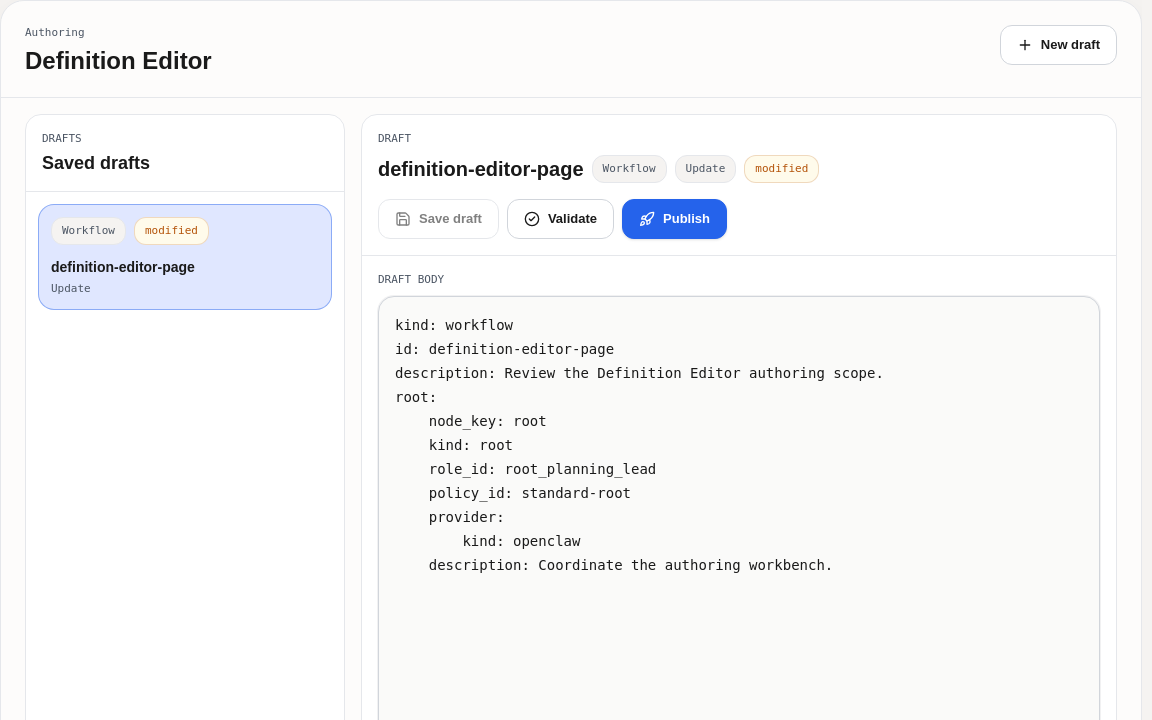
Test: DefinitionEditorPage › creates flat definition drafts and keeps name collisions in the dialog
Expected: the button "Workflow modified definition-editor-page Update" is shown, x1=38 y1=204 x2=332 y2=310
Click the button "New draft". click: (1058, 45)
box: x1=1000 y1=25 x2=1117 y2=65
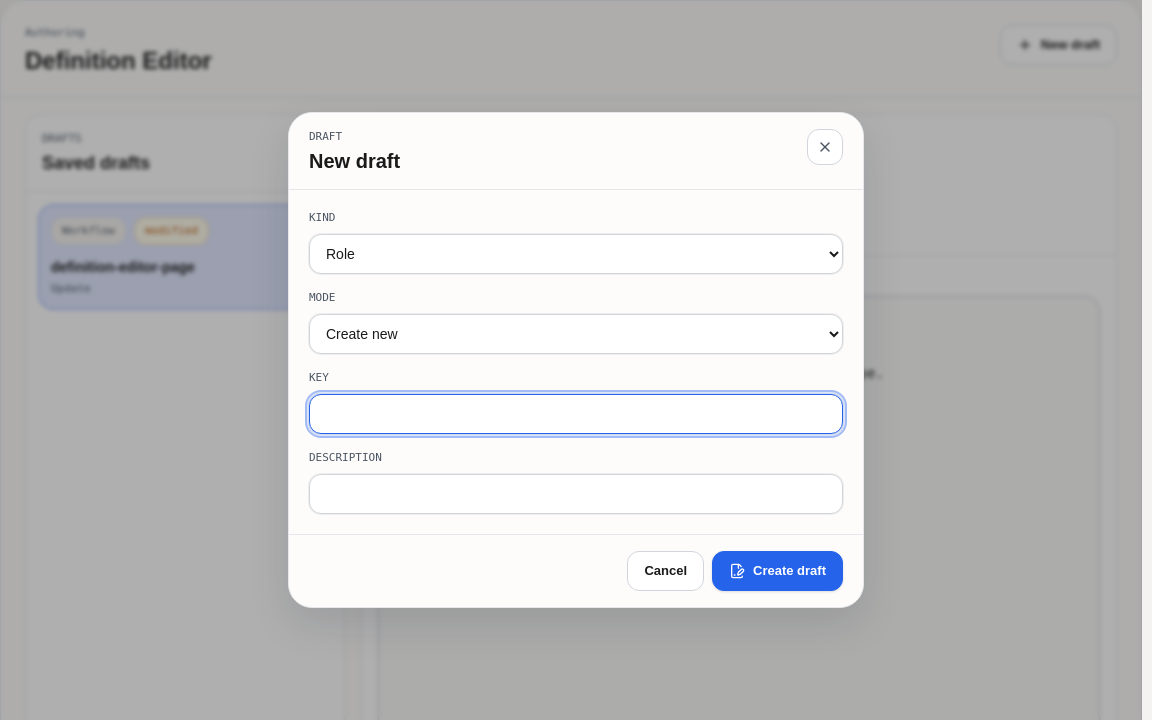
Type "definition-editor-review" into the field labelled "Key". click: (576, 414)
box: x1=309 y1=394 x2=843 y2=434
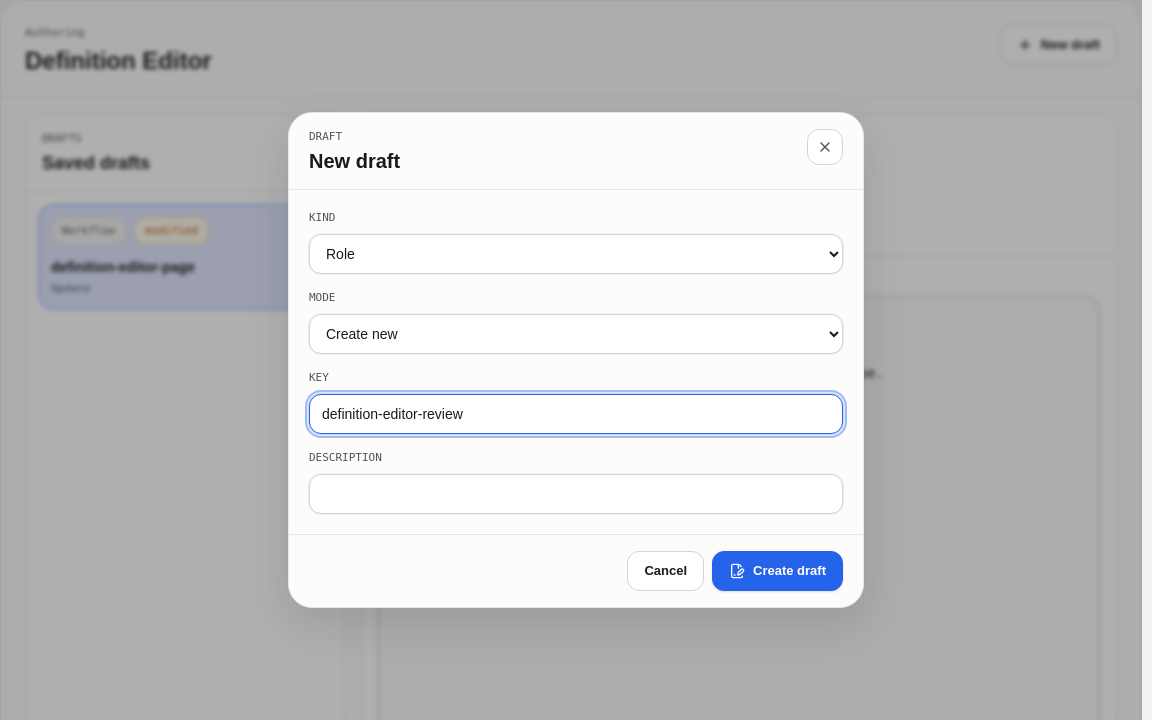
Click the button "Create draft". click: (778, 571)
box: x1=712 y1=551 x2=843 y2=591
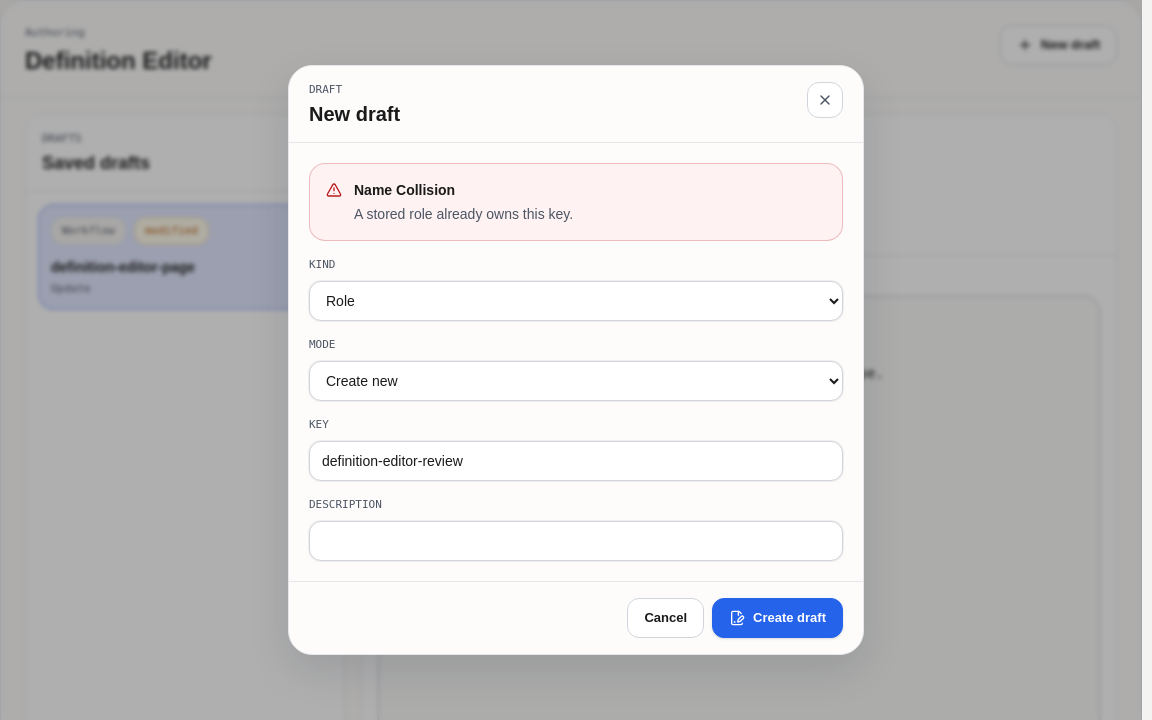
Now the text "A stored role already owns this key." is shown, box x1=354 y1=206 x2=573 y2=222
Clear the field labelled "Key". click: (576, 461)
box: x1=309 y1=441 x2=843 y2=481
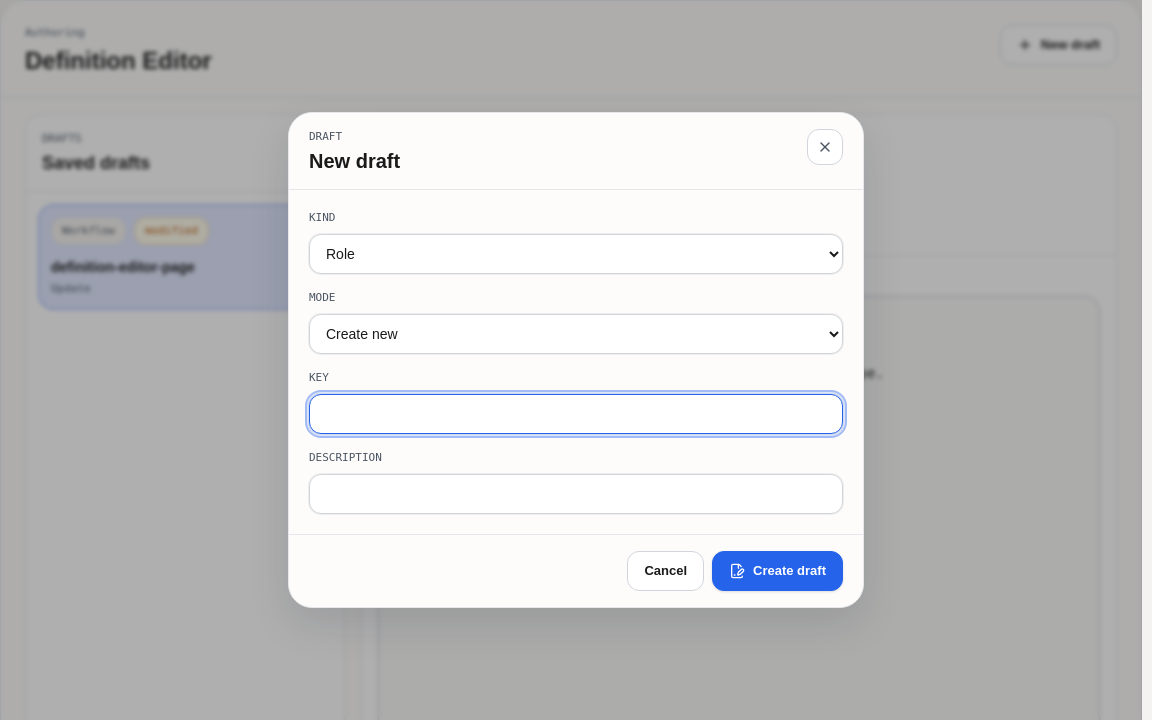
Type "definition-editor-new-role" into the field labelled "Key". click: (576, 414)
box: x1=309 y1=394 x2=843 y2=434
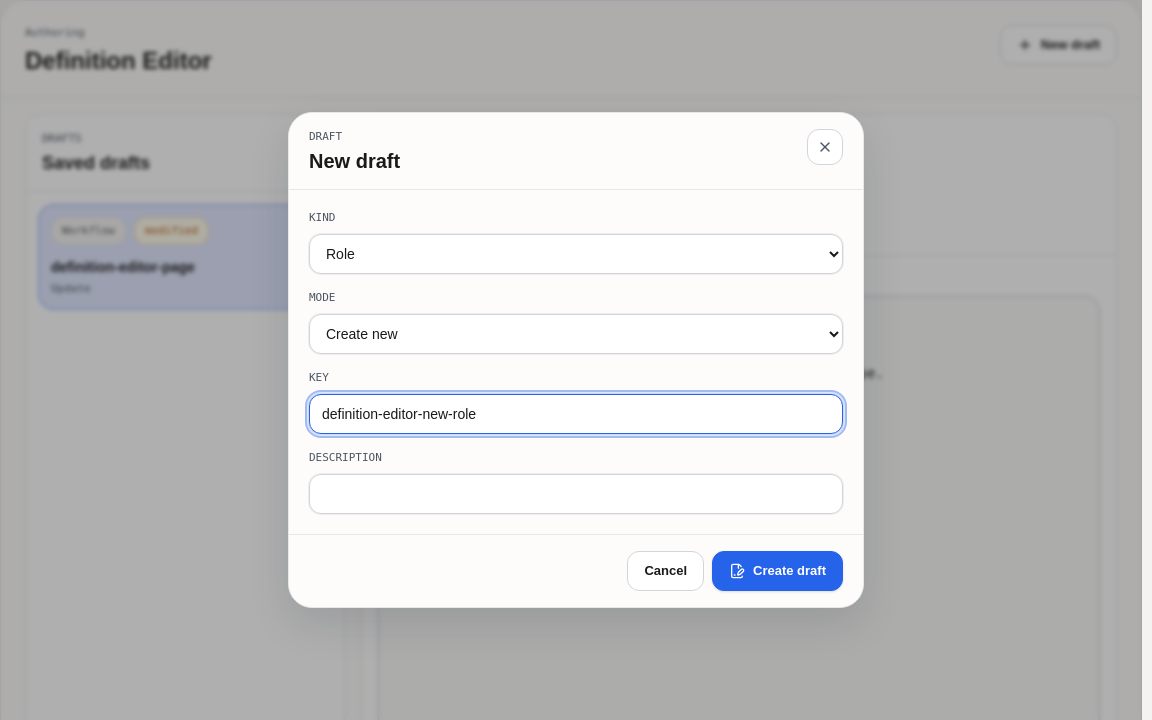
Click the button "Create draft". click: (778, 571)
box: x1=712 y1=551 x2=843 y2=591
(page scrolled)
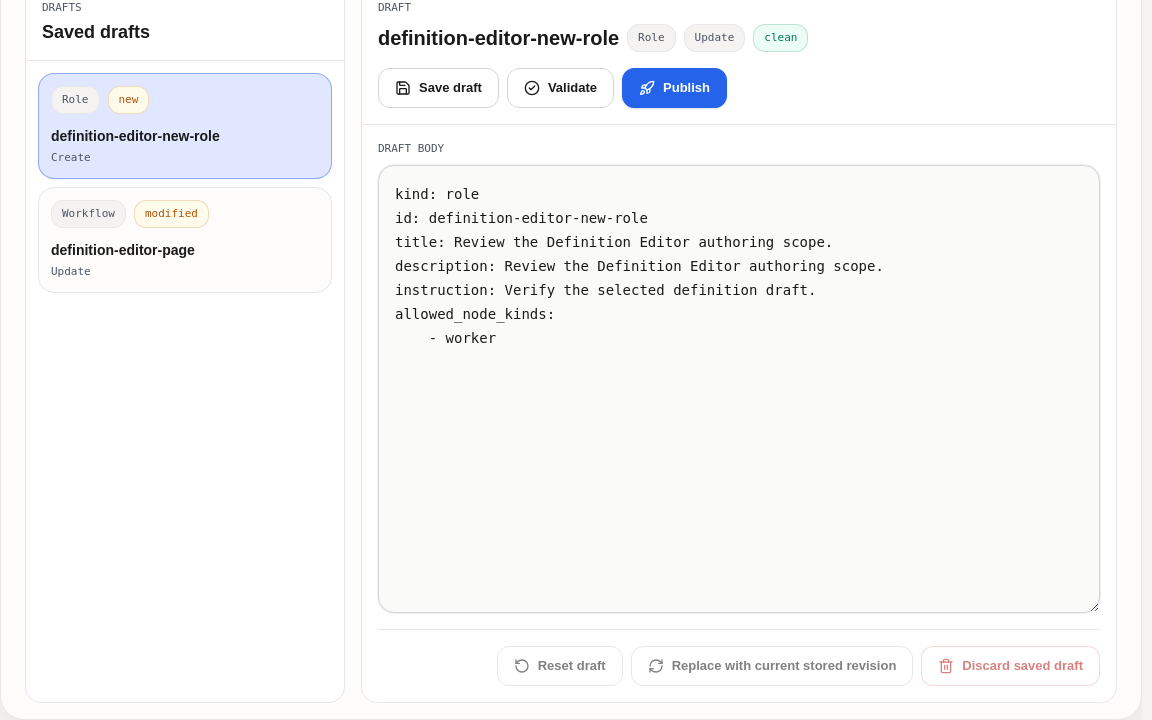
Now the button "Role new definition-editor-new-role Create" is shown, box x1=38 y1=73 x2=332 y2=179
Now the text box showing "definition-editor-new-role" is shown, box x1=378 y1=165 x2=1100 y2=613
